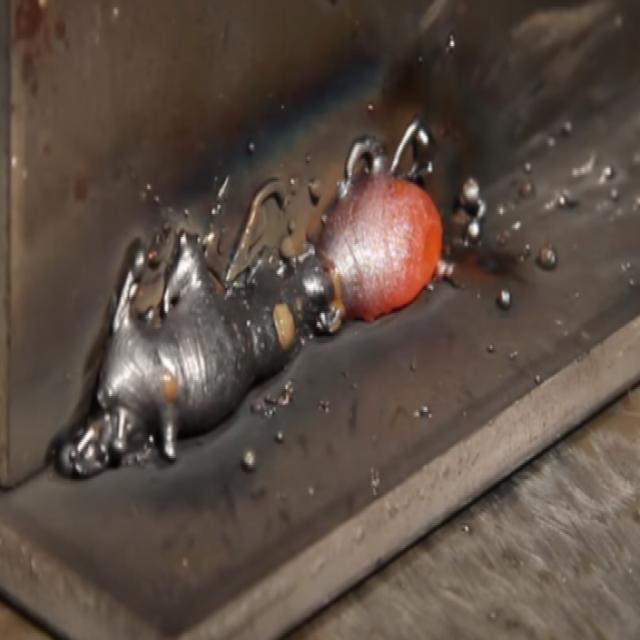Bad Welding: (57, 127, 451, 497)
Excess Reinforcement: (58, 230, 308, 473), (320, 174, 445, 323)
